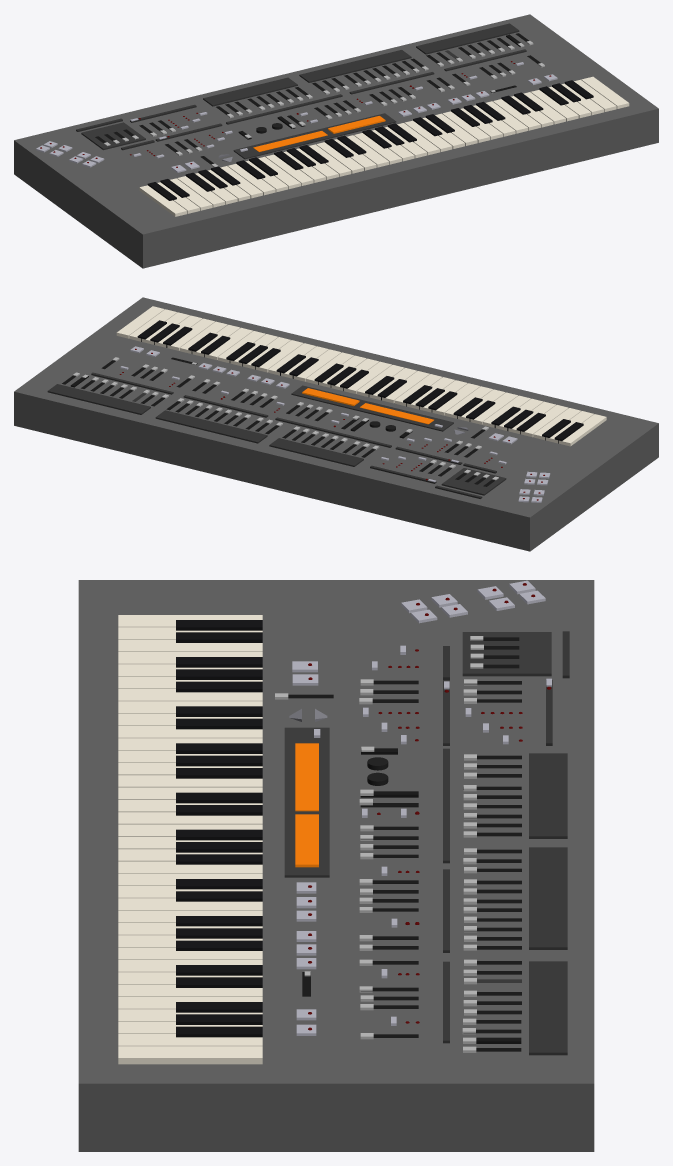
3 renders of one model, top to bottom at view 1: azimuth 30°, elevation 25°; view 2: azimuth 150°, elevation 25°; view 3: azimuth 270°, elevation 25°, orthographic. The views are drawn at different scales.
Visible parts, largest first — view 1: synth_body.1, panel1.1, panel3, panel3.1, panel2, panel1, Key_C1, Key_C6, panel1.2, Key_F1, Key_F4, Key_F5 (+18 smaller); view 2: synth_body.1, panel1.1, panel3, panel3.1, panel2, panel1, Key_C1, Key_C6, panel1.2, Key_F1, Key_F4, Key_F5 (+18 smaller); view 3: synth_body.1, panel1.1, panel3, panel3.1, panel1, panel2, Key_C6, panel1.2, Key_B2, Key_E2, Key_B1, Key_E3 (+58 smaller).
Part boxes in pixels (left/top/right/bottom): synth_body.1: left=14, top=14, right=658, bottom=268; panel1.1: left=233, top=113, right=396, bottom=159; panel3: left=299, top=50, right=411, bottom=82; panel3.1: left=416, top=23, right=519, bottom=54; panel2: left=203, top=77, right=297, bottom=106; panel1: left=81, top=122, right=145, bottom=150; Key_C1: left=139, top=185, right=187, bottom=216; Key_C6: left=581, top=76, right=629, bottom=108; panel1.2: left=253, top=131, right=327, bottom=151; Key_F1: left=177, top=176, right=225, bottom=207; Key_F4: left=442, top=111, right=490, bottom=142; Key_F5: left=530, top=90, right=578, bottom=121; synth_body.1: left=14, top=297, right=658, bottom=551; panel1.1: left=291, top=385, right=453, bottom=431; panel3: left=155, top=410, right=267, bottom=443; panel3.1: left=47, top=384, right=150, bottom=414; panel2: left=269, top=438, right=363, bottom=466; panel1: left=441, top=468, right=506, bottom=495; Key_C1: left=558, top=414, right=606, bottom=446; Key_C6: left=116, top=306, right=164, bottom=338; panel1.2: left=360, top=403, right=433, bottom=424; Key_F1: left=520, top=405, right=568, bottom=437; Key_F4: left=255, top=340, right=303, bottom=372; Key_F5: left=167, top=318, right=215, bottom=350; synth_body.1: left=78, top=580, right=594, bottom=1151; panel1.1: left=284, top=727, right=329, bottom=877; panel3: left=529, top=847, right=567, bottom=949; panel3.1: left=529, top=961, right=567, bottom=1055; panel1: left=462, top=632, right=551, bottom=676; panel2: left=529, top=753, right=567, bottom=838; Key_C6: left=118, top=1046, right=262, bottom=1064; panel1.2: left=295, top=743, right=318, bottom=811; Key_B2: left=118, top=775, right=262, bottom=787; Key_E2: left=118, top=726, right=262, bottom=738; Key_B1: left=118, top=689, right=262, bottom=701; Key_E3: left=118, top=812, right=262, bottom=824.
Size of what is drawn, in the model's own units: 7.96 by 0.574 by 3.44.
